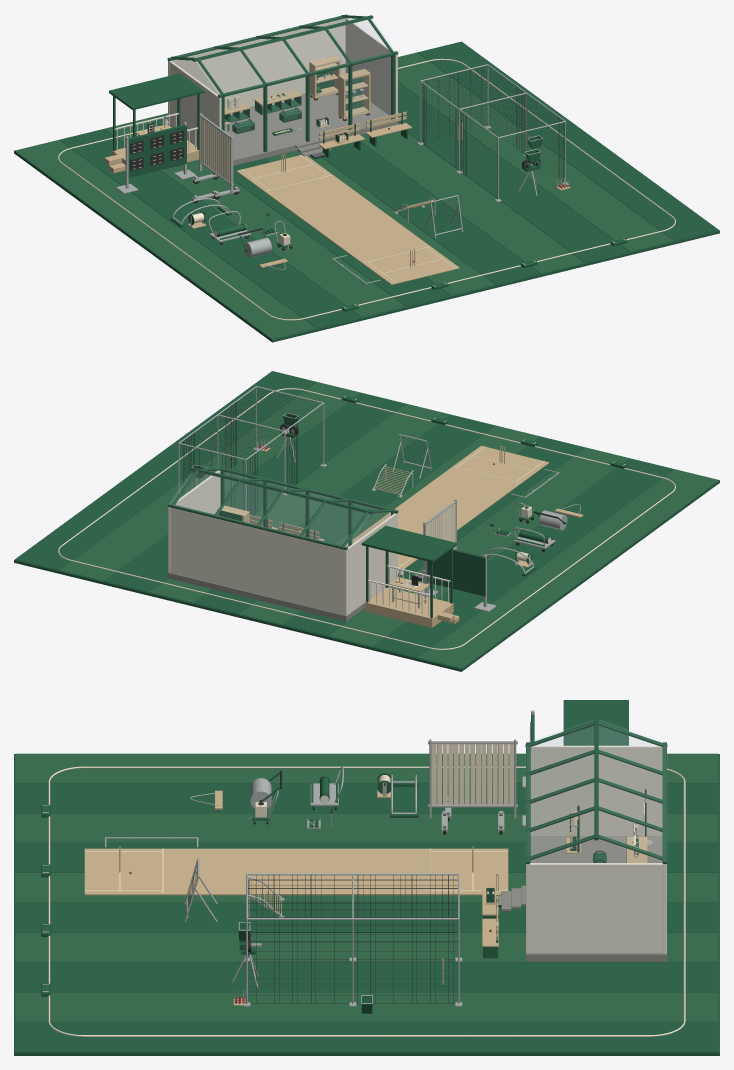
File: cricket-ground-and-pavilion-club-trainin-33a055b4-starter-scene__31359.glb
3 renders of one model, top to bottom at view 1: azimuth 30°, elevation 25°; view 2: azimuth 150°, elevation 25°; view 3: azimuth 270°, elevation 25°, orthographic. The views are drawn at different scales.
Visible parts, largest first — view 1: 000-cricket-ground-base/1, 000-cricket-ground-base/0, 001-roofed-cricket-pavilion/0, 029-pitch-strip/0, 001-roofed-cricket-pavilion/3, 001-roofed-cricket-pavilion/1, 035-practice-net-mesh/0, 002-covered-scorer-balcony/2, 006-manual-cricket-scoreboard/2, 034-practice-net-frame/0, 040-sight-screen/2, 016-pavilion-trophy-cabinet/1 (+7 smaller); view 2: 000-cricket-ground-base/1, 000-cricket-ground-base/0, 001-roofed-cricket-pavilion/0, 029-pitch-strip/0, 001-roofed-cricket-pavilion/2, 001-roofed-cricket-pavilion/1, 035-practice-net-mesh/0, 002-covered-scorer-balcony/2, 002-covered-scorer-balcony/0, 006-manual-cricket-scoreboard/2, 034-practice-net-frame/0, 001-roofed-cricket-pavilion/3 (+3 smaller); view 3: 000-cricket-ground-base/1, 000-cricket-ground-base/0, 001-roofed-cricket-pavilion/0, 029-pitch-strip/0, 035-practice-net-mesh/0, 040-sight-screen/2, 001-roofed-cricket-pavilion/1, 001-roofed-cricket-pavilion/3, 002-covered-scorer-balcony/2, 034-practice-net-frame/0, 040-sight-screen/0, 001-roofed-cricket-pavilion/2 (+1 smaller).
Part boxes in pixels (x1=…): 000-cricket-ground-base/1: x1=14, y1=41, x2=719, y2=342; 000-cricket-ground-base/0: x1=15, y1=52, x2=673, y2=339; 001-roofed-cricket-pavilion/0: x1=168, y1=18, x2=397, y2=146; 029-pitch-strip/0: x1=236, y1=155, x2=459, y2=284; 001-roofed-cricket-pavilion/3: x1=187, y1=93, x2=398, y2=165; 001-roofed-cricket-pavilion/1: x1=167, y1=14, x2=398, y2=151; 035-practice-net-mesh/0: x1=421, y1=66, x2=564, y2=198; 002-covered-scorer-balcony/2: x1=109, y1=73, x2=204, y2=151; 006-manual-cricket-scoreboard/2: x1=128, y1=125, x2=186, y2=177; 034-practice-net-frame/0: x1=417, y1=64, x2=568, y2=202; 040-sight-screen/2: x1=200, y1=117, x2=230, y2=182; 016-pavilion-trophy-cabinet/1: x1=338, y1=69, x2=370, y2=119; 000-cricket-ground-base/1: x1=14, y1=371, x2=719, y2=671; 000-cricket-ground-base/0: x1=60, y1=382, x2=718, y2=668; 001-roofed-cricket-pavilion/0: x1=168, y1=470, x2=397, y2=615; 029-pitch-strip/0: x1=345, y1=445, x2=549, y2=573; 001-roofed-cricket-pavilion/2: x1=170, y1=470, x2=390, y2=546; 001-roofed-cricket-pavilion/1: x1=167, y1=467, x2=398, y2=550; 035-practice-net-mesh/0: x1=179, y1=388, x2=322, y2=515; 002-covered-scorer-balcony/2: x1=361, y1=525, x2=456, y2=618; 002-covered-scorer-balcony/0: x1=365, y1=587, x2=459, y2=627; 006-manual-cricket-scoreboard/2: x1=427, y1=549, x2=485, y2=596; 034-practice-net-frame/0: x1=178, y1=386, x2=326, y2=510; 001-roofed-cricket-pavilion/3: x1=167, y1=572, x2=392, y2=621; 000-cricket-ground-base/1: x1=14, y1=754, x2=719, y2=1055; 000-cricket-ground-base/0: x1=15, y1=753, x2=718, y2=1021; 001-roofed-cricket-pavilion/0: x1=526, y1=745, x2=666, y2=953; 029-pitch-strip/0: x1=84, y1=848, x2=508, y2=895; 035-practice-net-mesh/0: x1=248, y1=874, x2=457, y2=1003; 040-sight-screen/2: x1=431, y1=744, x2=513, y2=804; 001-roofed-cricket-pavilion/1: x1=525, y1=718, x2=667, y2=864; 001-roofed-cricket-pavilion/3: x1=501, y1=836, x2=666, y2=961; 002-covered-scorer-balcony/2: x1=563, y1=700, x2=628, y2=745; 034-practice-net-frame/0: x1=243, y1=873, x2=462, y2=1006; 040-sight-screen/0: x1=428, y1=739, x2=517, y2=831; 001-roofed-cricket-pavilion/2: x1=538, y1=725, x2=654, y2=843.
Bounding box in the file's own units: 20 × 4.04 × 20.
